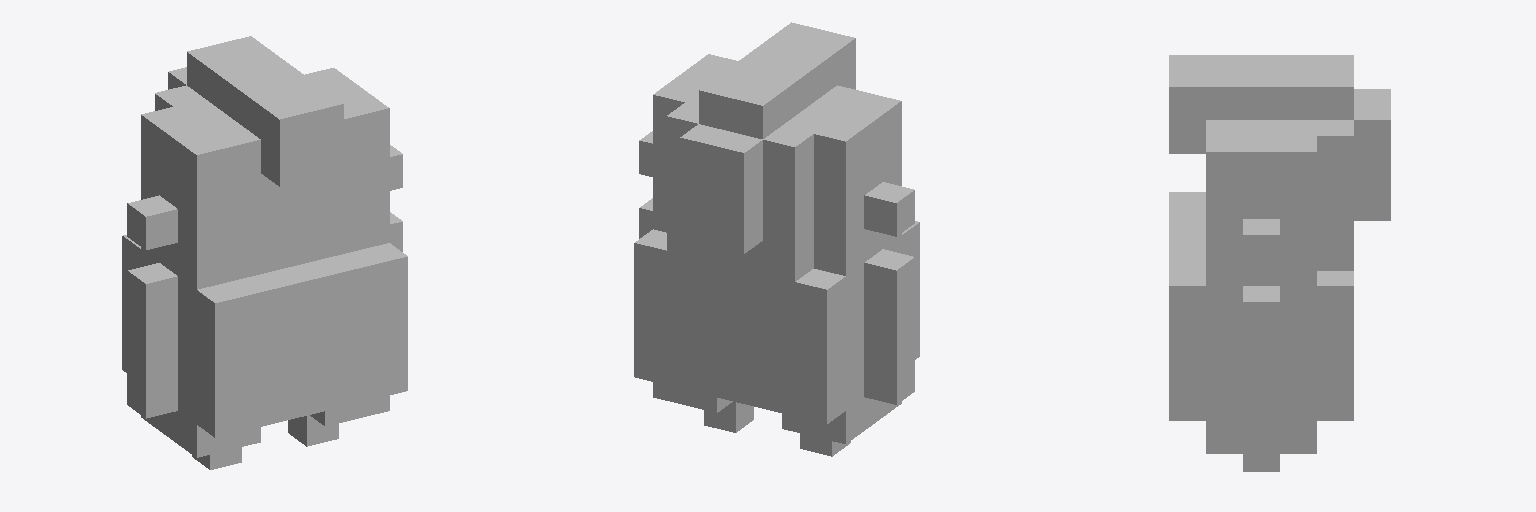
File: chr_suit3.obj
3 renders of one model, left to right at view 1: azimuth 30°, elevation 25°; view 2: azimuth 150°, elevation 25°; view 3: azimuth 270°, elevation 25°, orthographic.
Visible parts, largest first — view 1: object 1; view 2: object 1; view 3: object 1.
Part boxes in pixels (bbox=[...]): object 1: bbox=[122, 36, 407, 469]; object 1: bbox=[634, 22, 919, 456]; object 1: bbox=[1169, 55, 1390, 471].
Bounding box in the file's own units: 0.8 × 1.1 × 0.6.